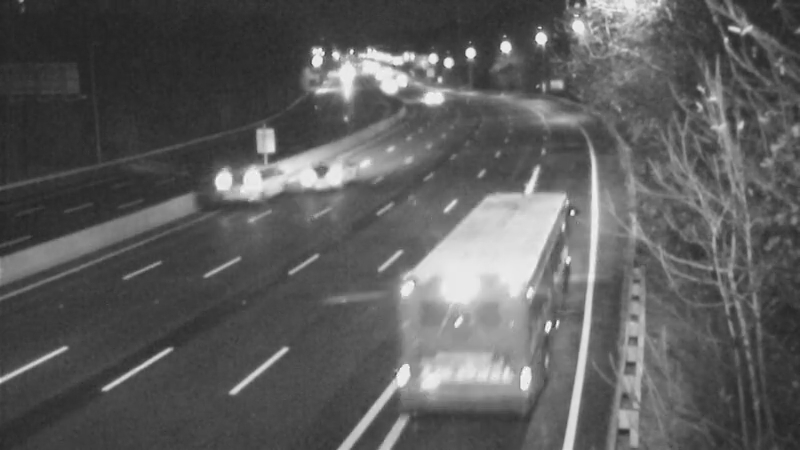vehicle: (280, 142, 360, 222), (194, 144, 274, 224), (452, 226, 532, 306), (401, 71, 451, 121)
